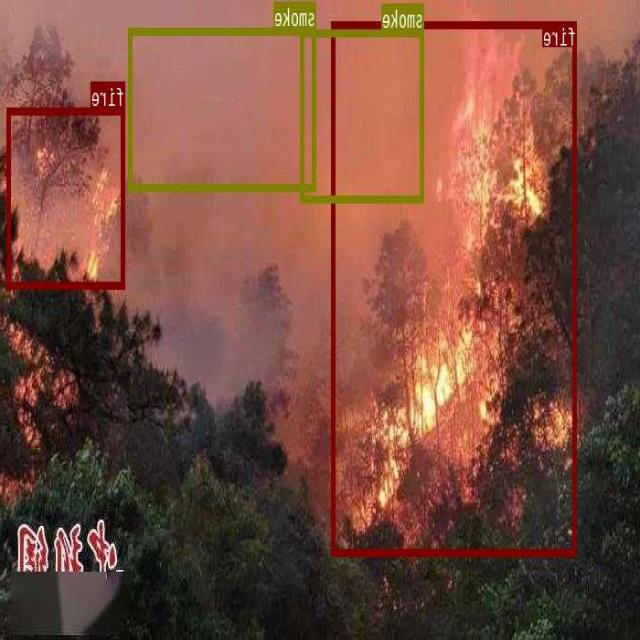fire: (332, 20, 578, 555), (8, 106, 126, 288)
smoke: (130, 27, 316, 190), (302, 29, 424, 200)
